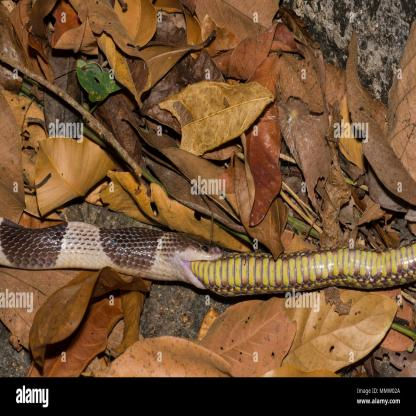Snake: (0, 211, 210, 302), (221, 245, 416, 309)
